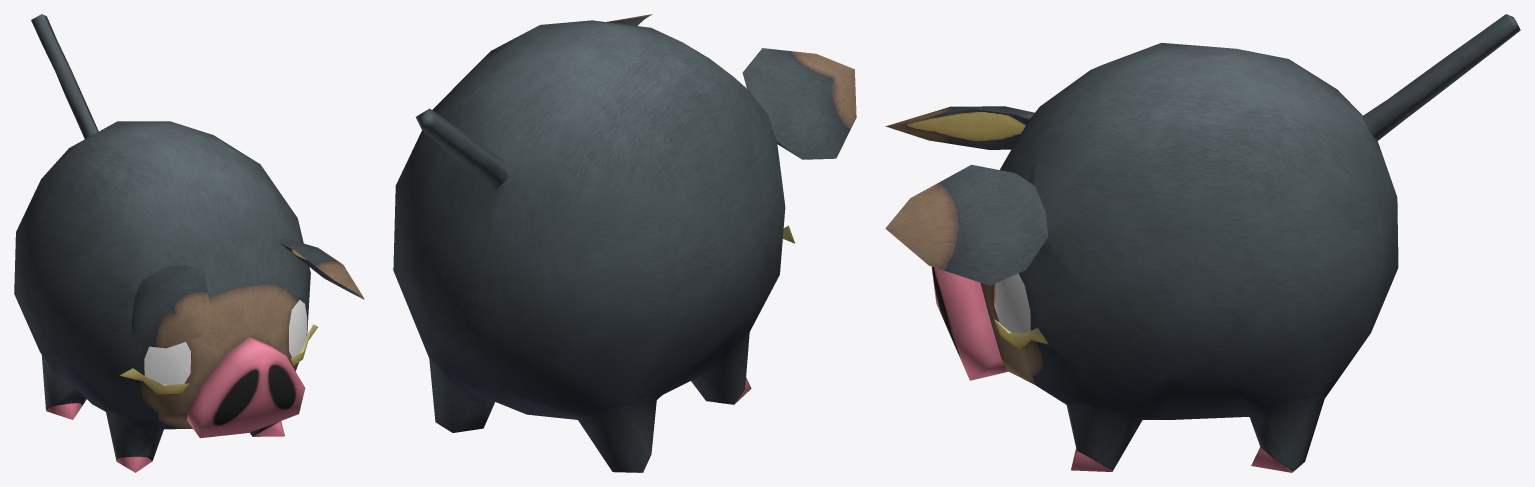
The picture shows the model from 3 angles, left to right: view 1: azimuth 30°, elevation 25°; view 2: azimuth 150°, elevation 25°; view 3: azimuth 270°, elevation 25°; orthographic projection. The views are drawn at different scales.
Parts seen in each view (by area): view 1: pm1019_00_00_body_mesh_shape_lod2_body_a, pm1019_00_00_eye_a_mesh_shape_lod2_r_eye_a, pm1019_00_00_body_mesh_shape_lod2_body_b, pm1019_00_00_eye_a_mesh_shape_lod2_l_eye_a, pm1019_00_00_eye_b_mesh_shape_lod2_r_eye_b; view 2: pm1019_00_00_body_mesh_shape_lod2_body_a; view 3: pm1019_00_00_body_mesh_shape_lod2_body_a, pm1019_00_00_eye_a_mesh_shape_lod2_l_eye_a, pm1019_00_00_body_mesh_shape_lod2_body_b.
Part boxes in pixels (x1=…): pm1019_00_00_body_mesh_shape_lod2_body_a: x1=14, y1=14, x2=364, y2=461; pm1019_00_00_eye_a_mesh_shape_lod2_r_eye_a: x1=144, y1=342, x2=190, y2=384; pm1019_00_00_body_mesh_shape_lod2_body_b: x1=46, y1=354, x2=284, y2=472; pm1019_00_00_eye_a_mesh_shape_lod2_l_eye_a: x1=289, y1=300, x2=307, y2=357; pm1019_00_00_eye_b_mesh_shape_lod2_r_eye_b: x1=163, y1=344, x2=190, y2=385; pm1019_00_00_body_mesh_shape_lod2_body_a: x1=393, y1=14, x2=856, y2=472; pm1019_00_00_body_mesh_shape_lod2_body_a: x1=885, y1=14, x2=1520, y2=472; pm1019_00_00_eye_a_mesh_shape_lod2_l_eye_a: x1=995, y1=273, x2=1030, y2=332; pm1019_00_00_body_mesh_shape_lod2_body_b: x1=1071, y1=447, x2=1291, y2=472.
Size of the model in its own units: 0.4423 by 0.5596 by 0.7869.
Materials: 6 (6 with a texture image).
